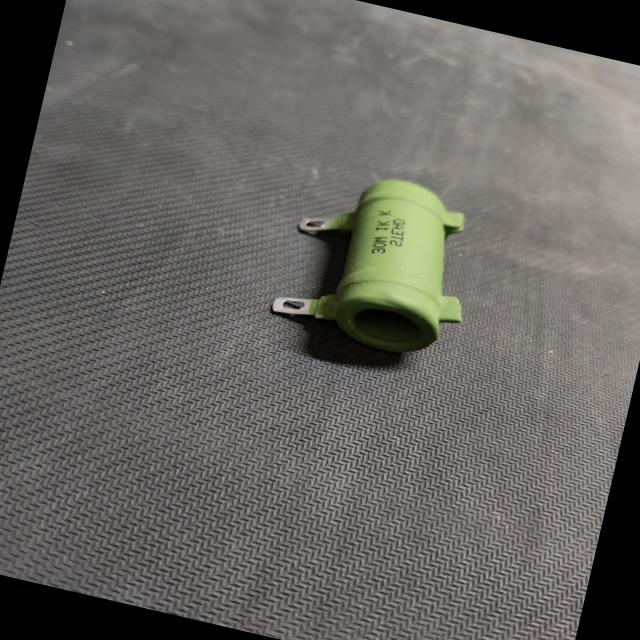resistor: (248, 150, 501, 382)
